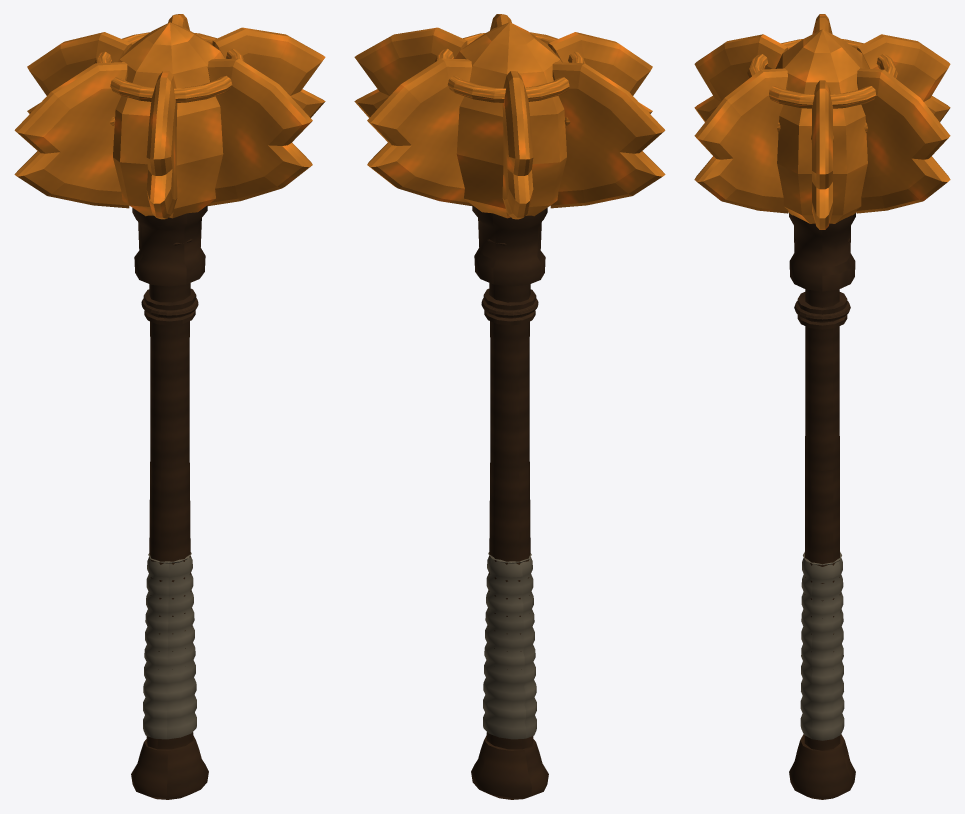
Rendered from underworld-weapon-crown-sceptre.glb.
3 views of the same model, side by side, from view 1: azimuth 30°, elevation 25°; view 2: azimuth 150°, elevation 25°; view 3: azimuth 270°, elevation 25° (orthographic).
Visible parts, largest first — view 1: head-core, striker-3, haft, striker-5, grip-wrap, neck, striker-0, striker-4, pommel, striker-2, crown/halo; view 2: head-core, striker-3, haft, striker-1, grip-wrap, neck, striker-0, striker-2, pommel, striker-4, crown/halo; view 3: head-core, haft, striker-1, striker-5, grip-wrap, neck, striker-2, striker-4, pommel, striker-0, crown/halo, crown/rotwood-collar-0.
Boxes of the visible parts, <box> form: head-core: <box>113,22,224,218</box>; striker-3: <box>14,62,129,208</box>; haft: <box>146,283,193,749</box>; striker-5: <box>207,58,312,206</box>; grip-wrap: <box>143,552,196,739</box>; neck: <box>132,205,207,325</box>; striker-0: <box>212,27,325,117</box>; striker-4: <box>146,71,177,219</box>; pommel: <box>131,735,208,799</box>; striker-2: <box>27,32,131,113</box>; crown/halo: <box>94,32,244,102</box>; head-core: <box>455,22,566,218</box>; striker-3: <box>550,62,665,208</box>; haft: <box>486,283,533,749</box>; striker-1: <box>367,58,472,206</box>; grip-wrap: <box>483,552,536,739</box>; neck: <box>472,205,547,325</box>; striker-0: <box>354,27,467,117</box>; striker-2: <box>502,71,533,219</box>; pommel: <box>471,735,548,799</box>; striker-4: <box>548,32,652,113</box>; crown/halo: <box>435,32,585,102</box>; head-core: <box>775,29,869,223</box>; haft: <box>804,289,840,750</box>; striker-1: <box>856,68,950,213</box>; striker-5: <box>694,68,788,213</box>; grip-wrap: <box>800,552,844,740</box>; neck: <box>789,213,855,329</box>; striker-2: <box>857,34,950,121</box>; striker-4: <box>694,34,787,121</box>; pommel: <box>789,734,855,799</box>; striker-0: <box>812,80,832,229</box>; crown/halo: <box>747,39,897,108</box>; crown/rotwood-collar-0: <box>794,301,850,321</box>.
Bounding box in the file's own units: 0.546 × 1.3 × 0.3971.
3 materials, 3 textured.
